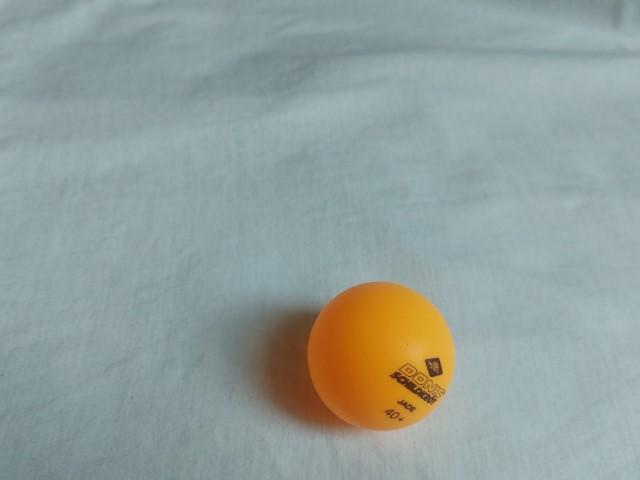oball: (299, 275, 466, 436)
